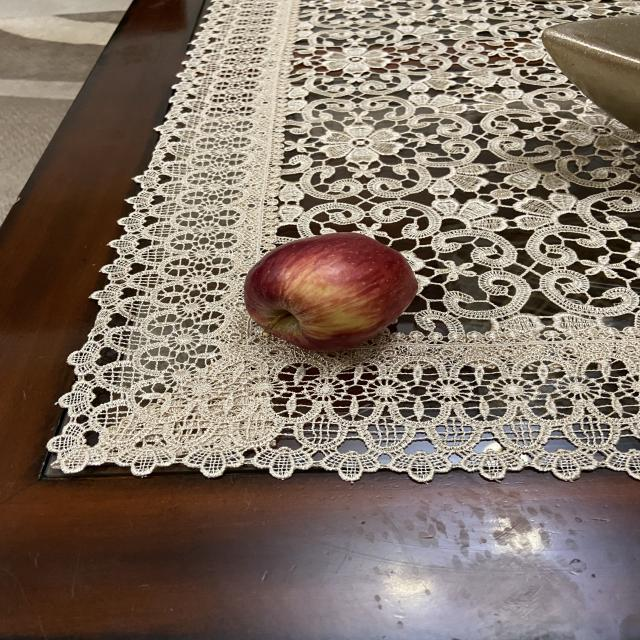apple: (236, 230, 417, 359)
